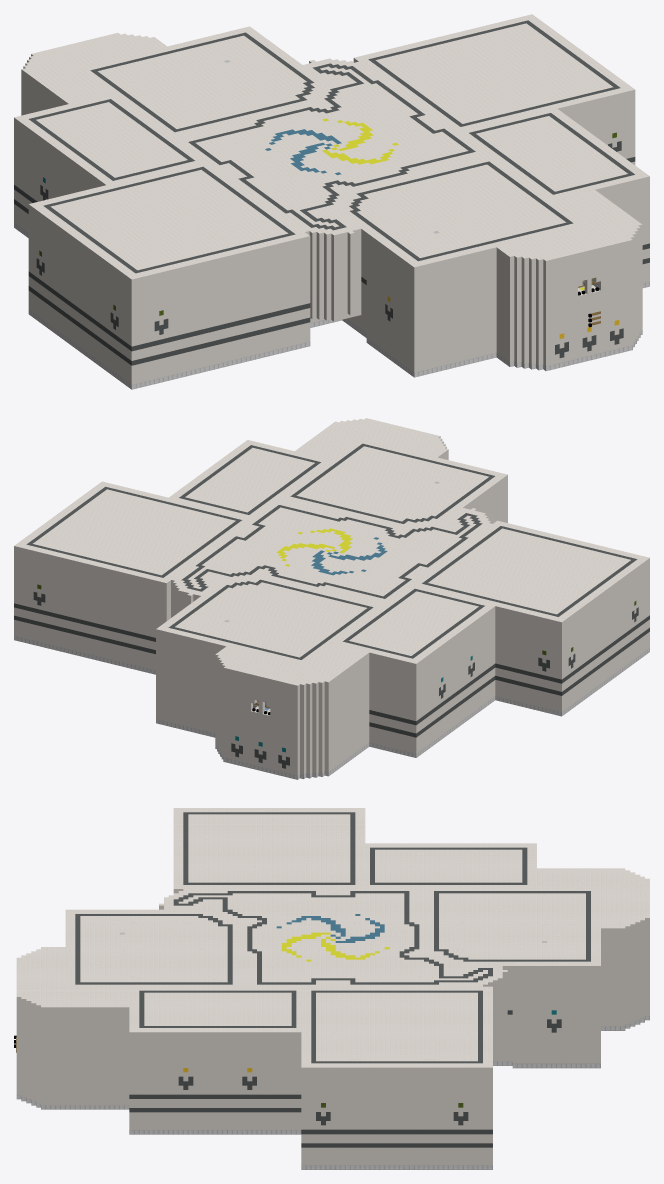
The model's file is minecraft.obj.
The picture shows the model from 3 angles, top to bottom: view 1: azimuth 30°, elevation 25°; view 2: azimuth 150°, elevation 25°; view 3: azimuth 270°, elevation 25°; orthographic projection. The views are drawn at different scales.
Size of the model in its own units: 125 by 23 by 130.
